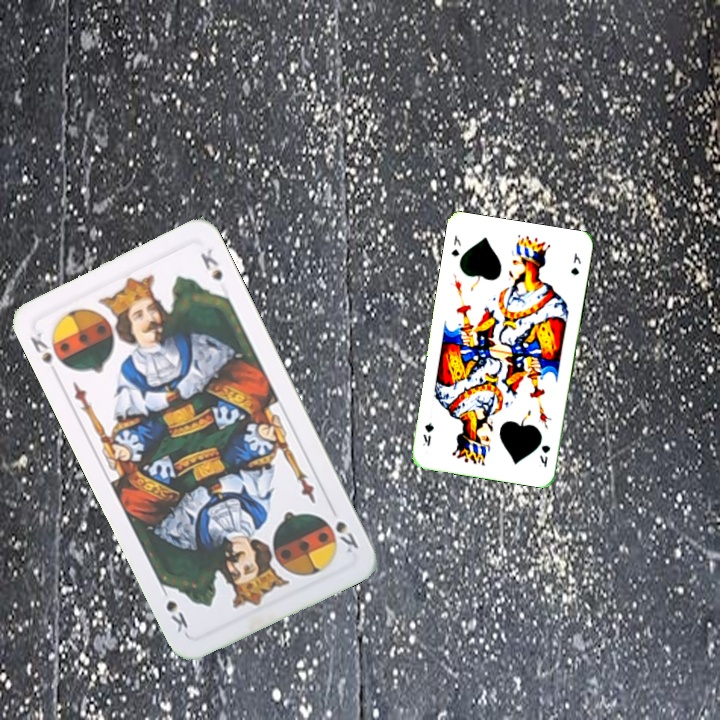GK: (536, 441, 553, 469), (447, 231, 463, 259)
SK: (331, 517, 361, 556), (26, 328, 55, 367)
